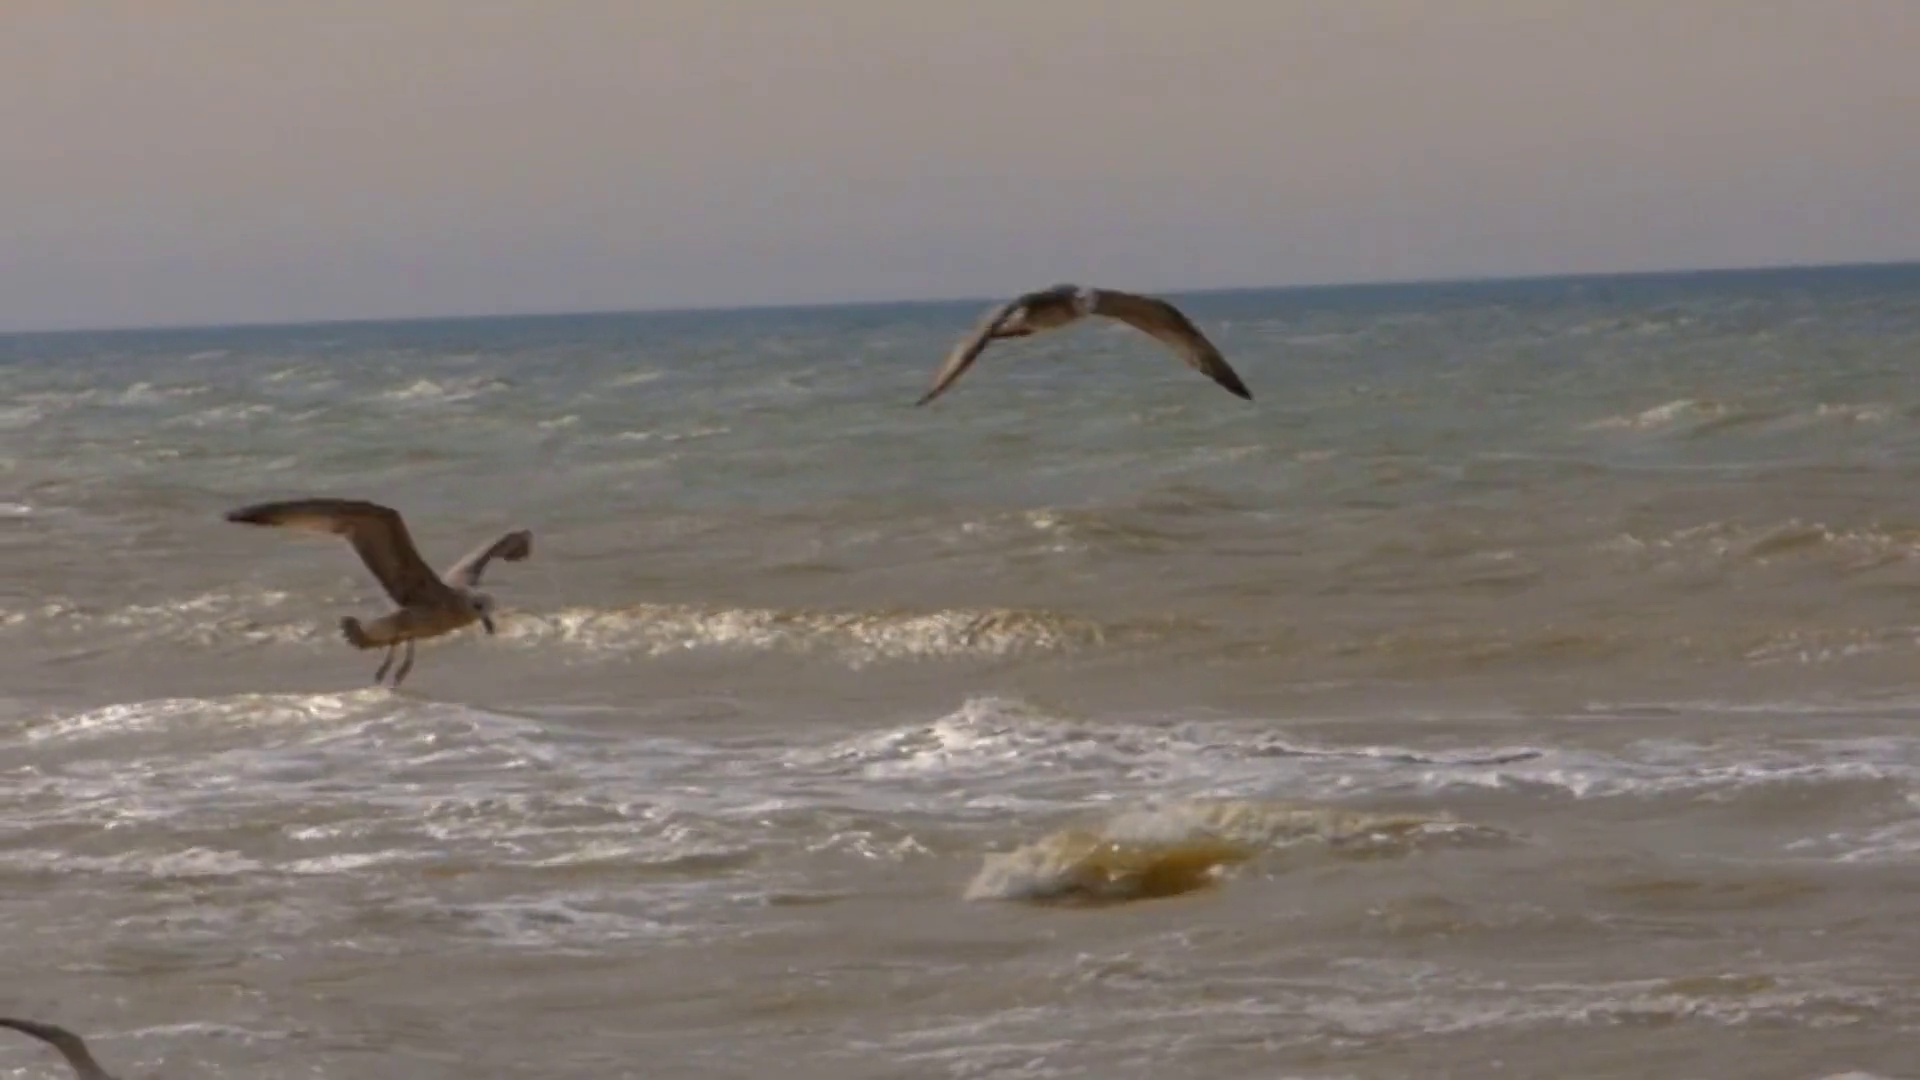bird: (222, 497, 533, 688), (909, 284, 1254, 406)
